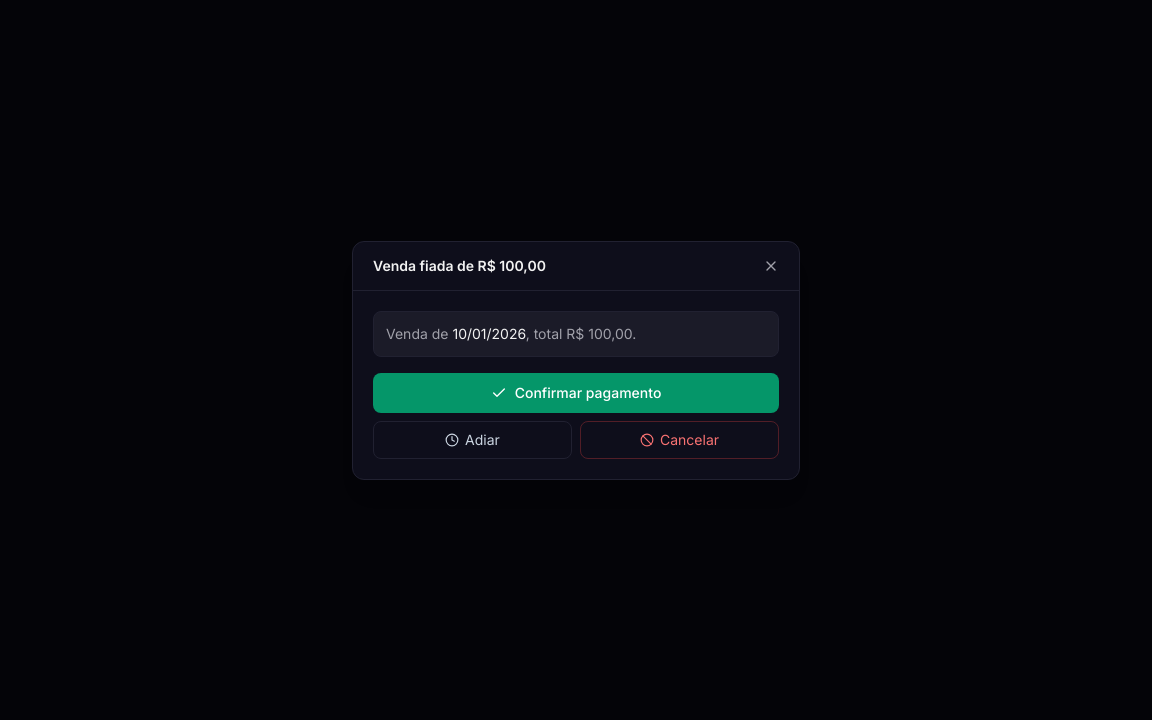
Test: GUARDA: parcial não é quitação › receber menos abre a pergunta do saldo em vez de confirmar
This screenshot has width=1152, height=720.
Click the button "Confirmar pagamento": (576, 392) [373,372,779,412]
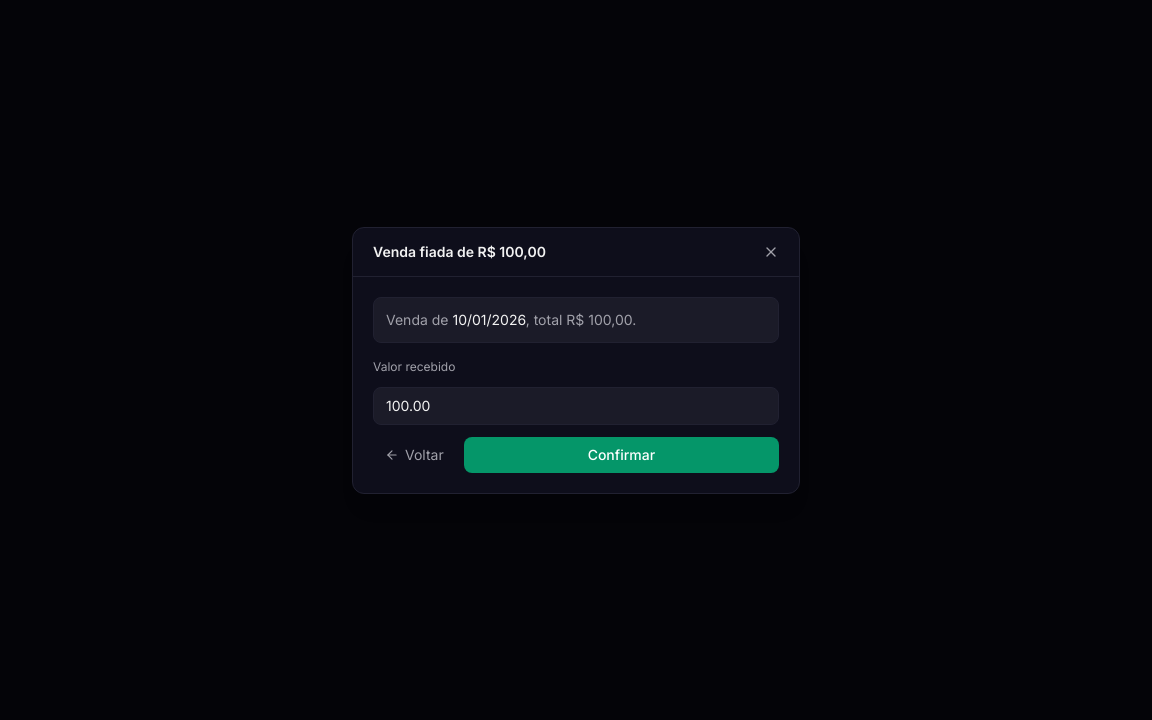
Replace the text in the number field labelled "Valor recebido" with "60": (576, 406) [373,386,779,424]
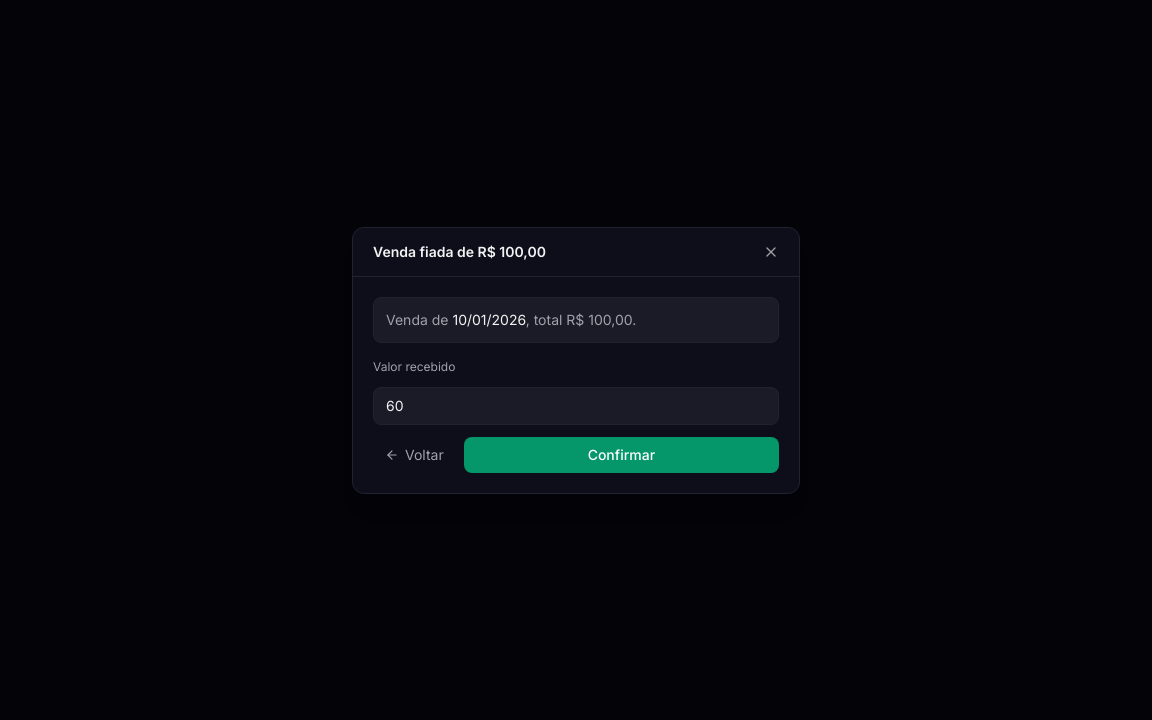
Click the button "Confirmar": (621, 454) [464,436,779,472]
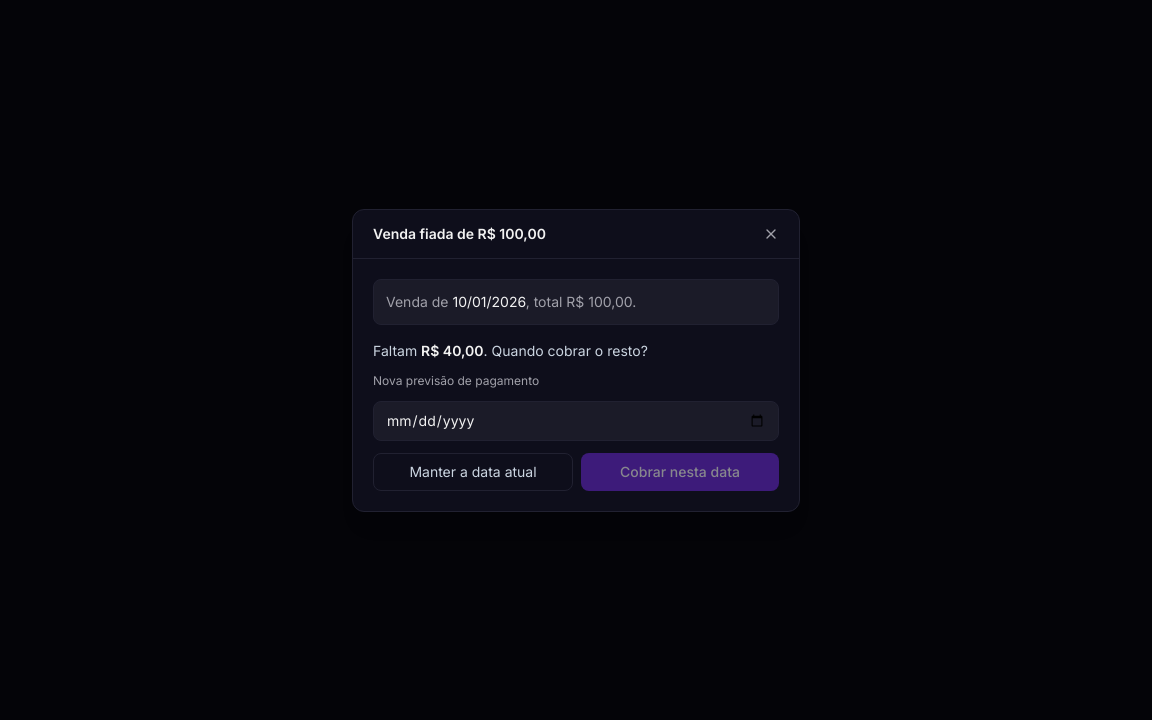
expect the element with test id "fiado-saldo" is shown: met, box [373,340,779,490]
expect the element with test id "fiado-saldo" shows "R$ 40,00": met, box [421,342,484,358]
